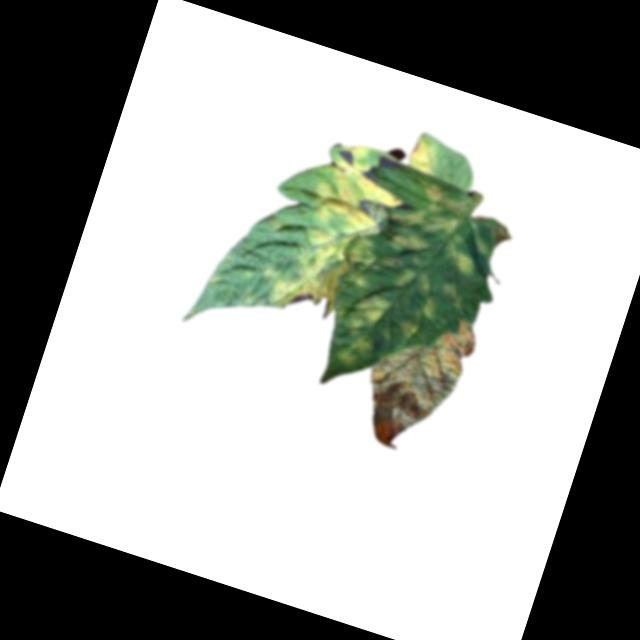Leaf_Mold: (303, 157, 522, 419), (253, 127, 415, 334), (349, 300, 481, 463), (405, 136, 438, 177)
